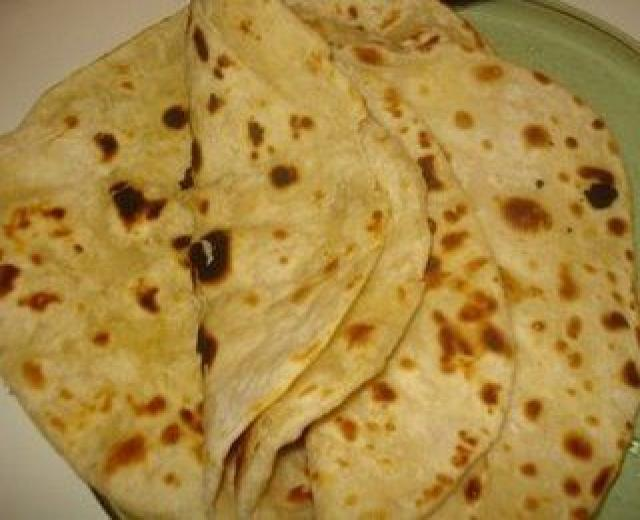chapati: (0, 0, 638, 518)
